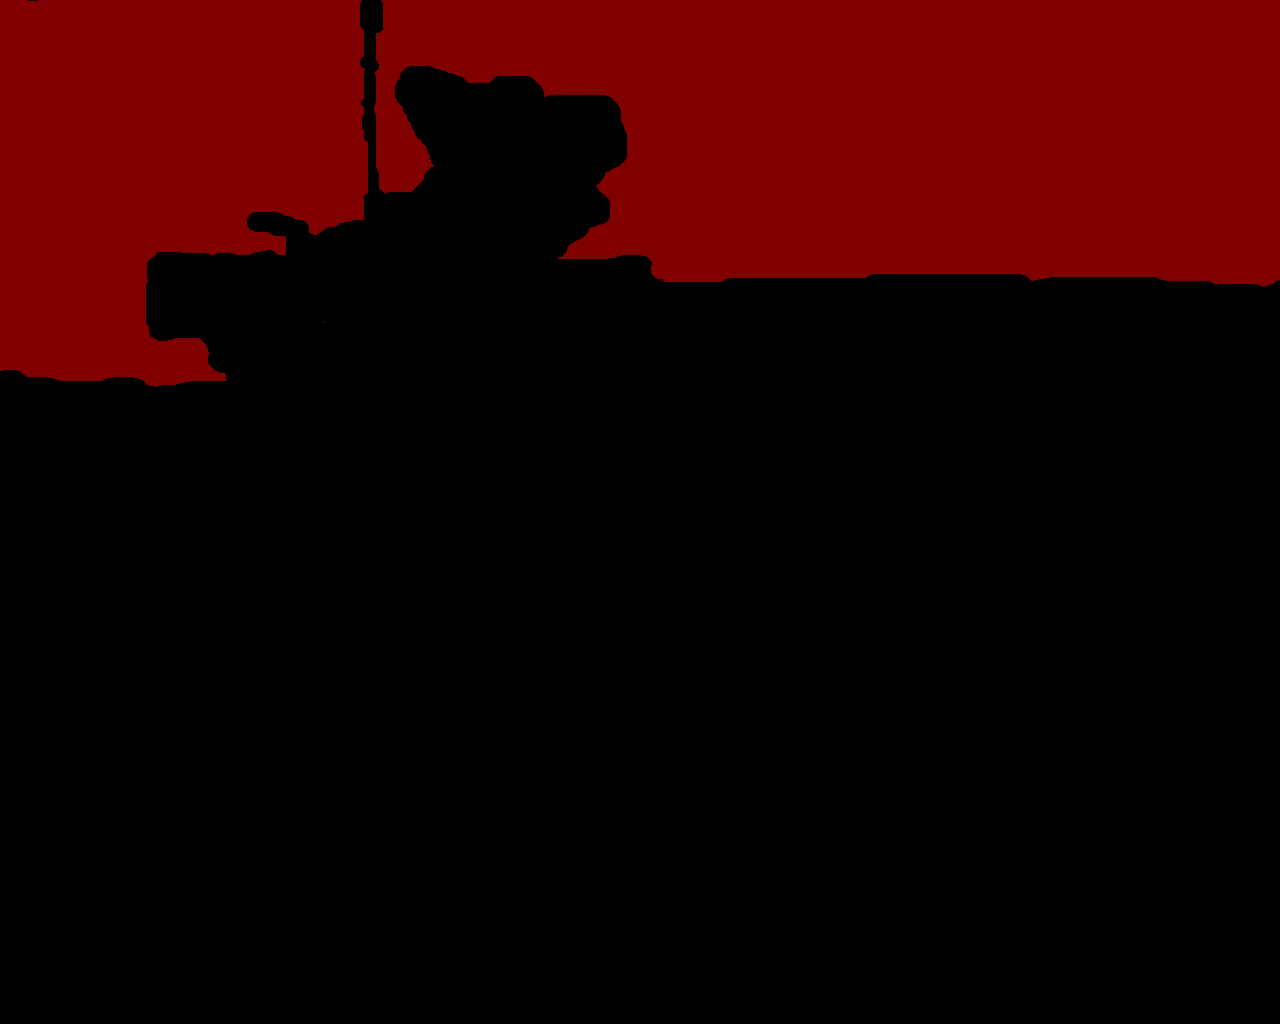Sky: (1, 1, 1279, 387)
